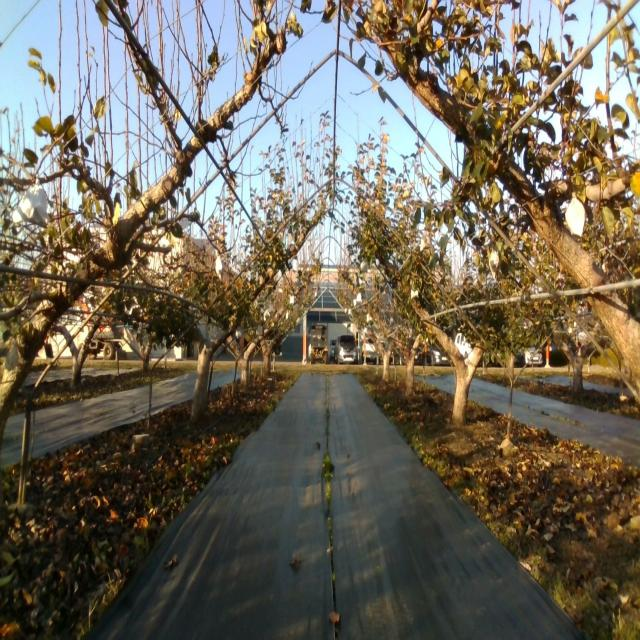pearbags: (10, 178, 46, 225), (564, 191, 585, 237), (488, 244, 502, 280), (216, 254, 226, 284), (420, 231, 433, 252)
